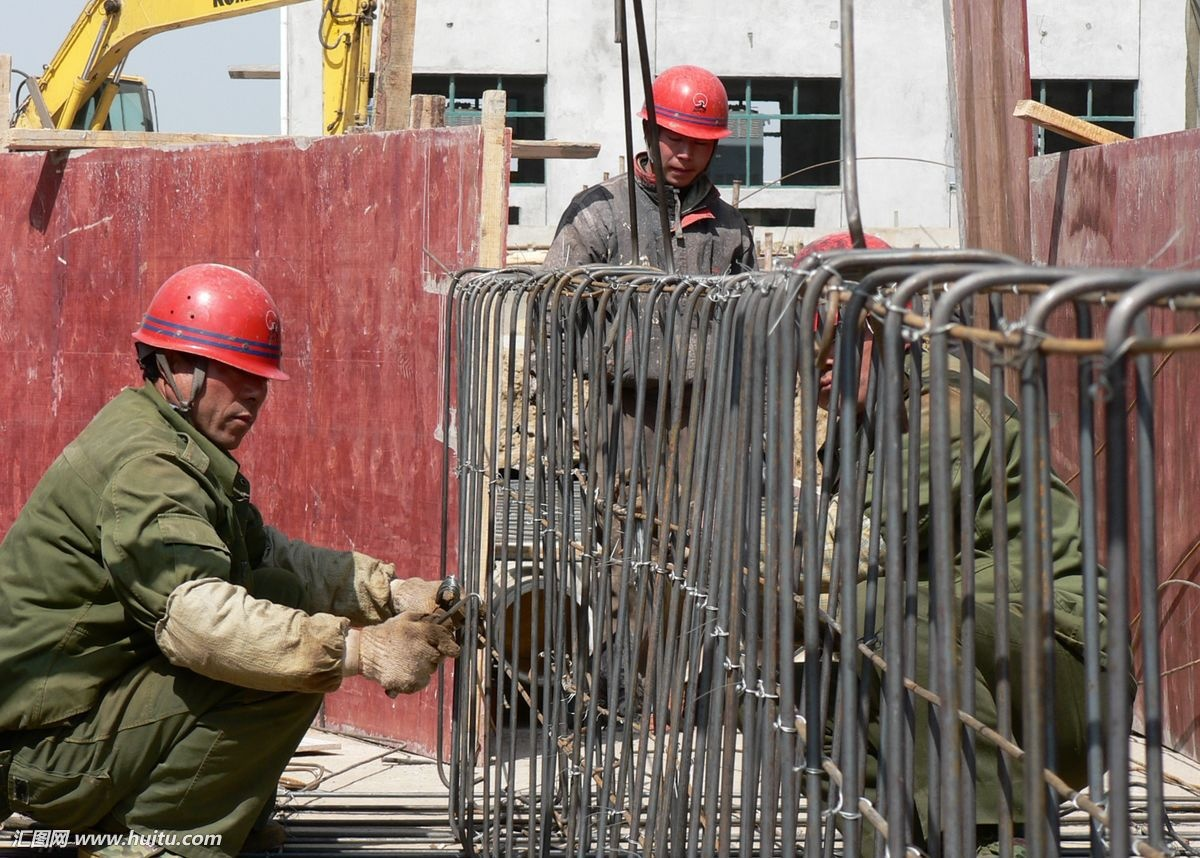red: (135, 262, 284, 450), (640, 64, 727, 186)
